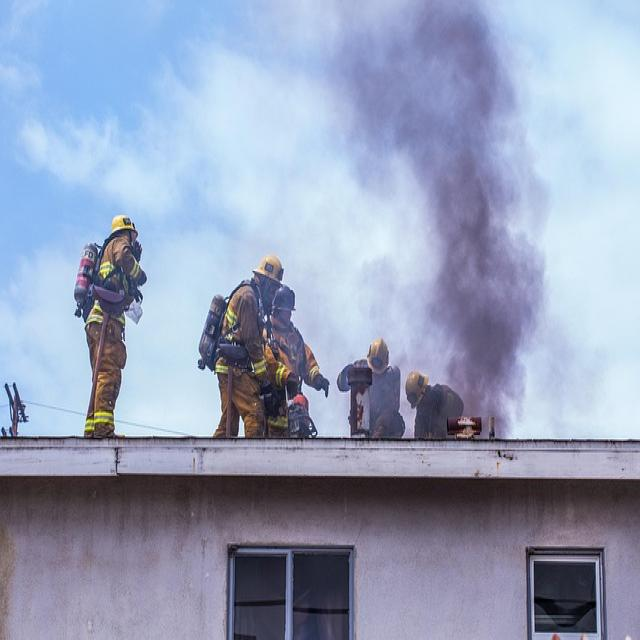smoke: (330, 7, 571, 344), (447, 353, 534, 442)
